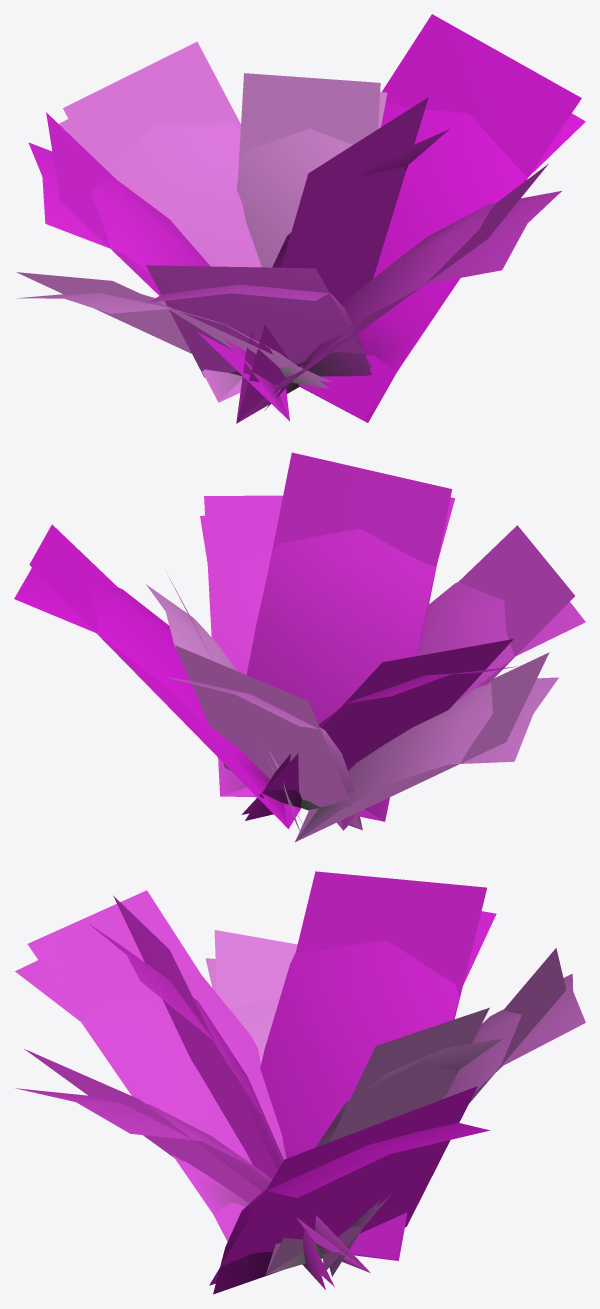
Rendered from fern_01_b.dae.
3 views of the same model, one above another, from view 1: azimuth 30°, elevation 25°; view 2: azimuth 150°, elevation 25°; view 3: azimuth 270°, elevation 25° (orthographic). The views are drawn at different scales.
Visible parts, largest first — view 1: fern4, fern200; view 2: fern200, fern4; view 3: fern4, fern200.
Part boxes in pixels (box(x1,y1,x2,y2)): fern4: box(16, 14, 581, 423); fern200: box(17, 92, 585, 423); fern200: box(14, 497, 585, 841); fern4: box(29, 452, 574, 841); fern4: box(24, 871, 566, 1286); fern200: box(15, 911, 585, 1294).
Bounding box in the file's own units: 1.27 × 1.05 × 0.7426.
